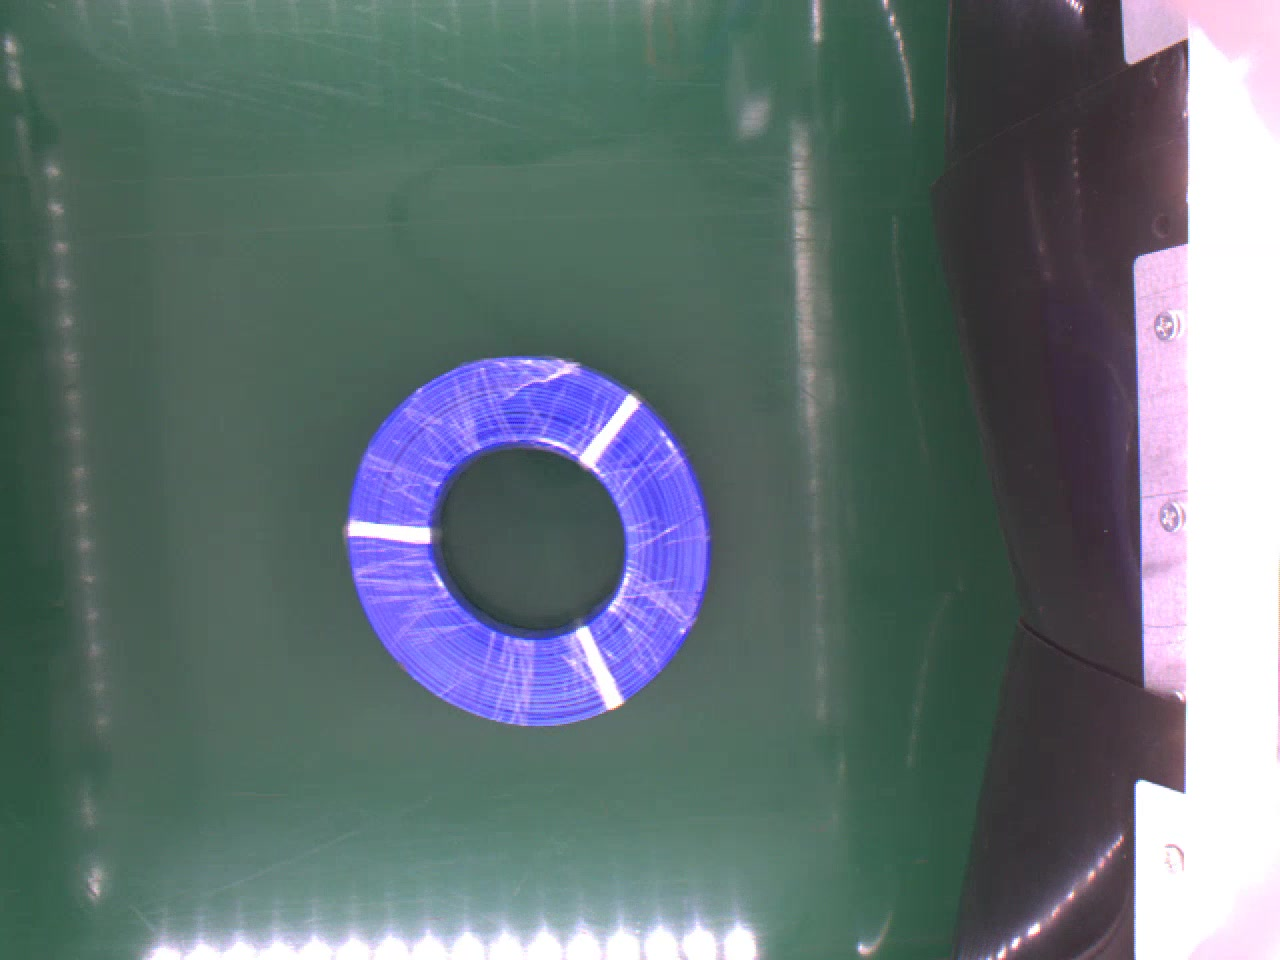blue: (336, 352, 712, 727)
